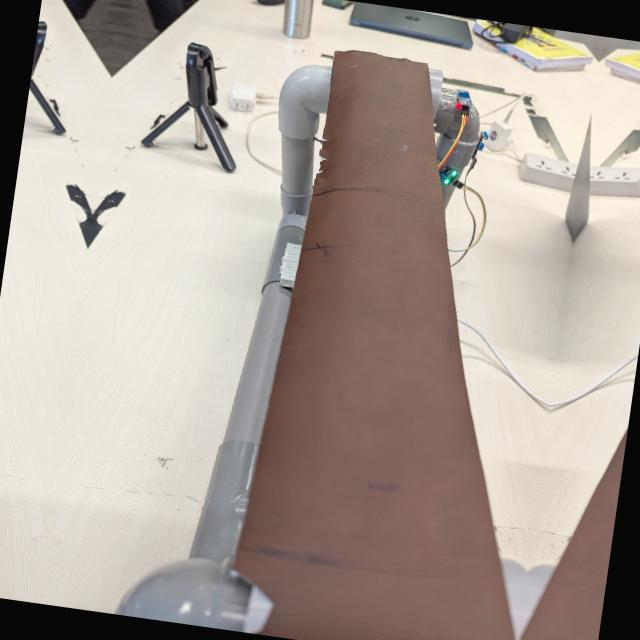edge_damage: (299, 124, 343, 212)
